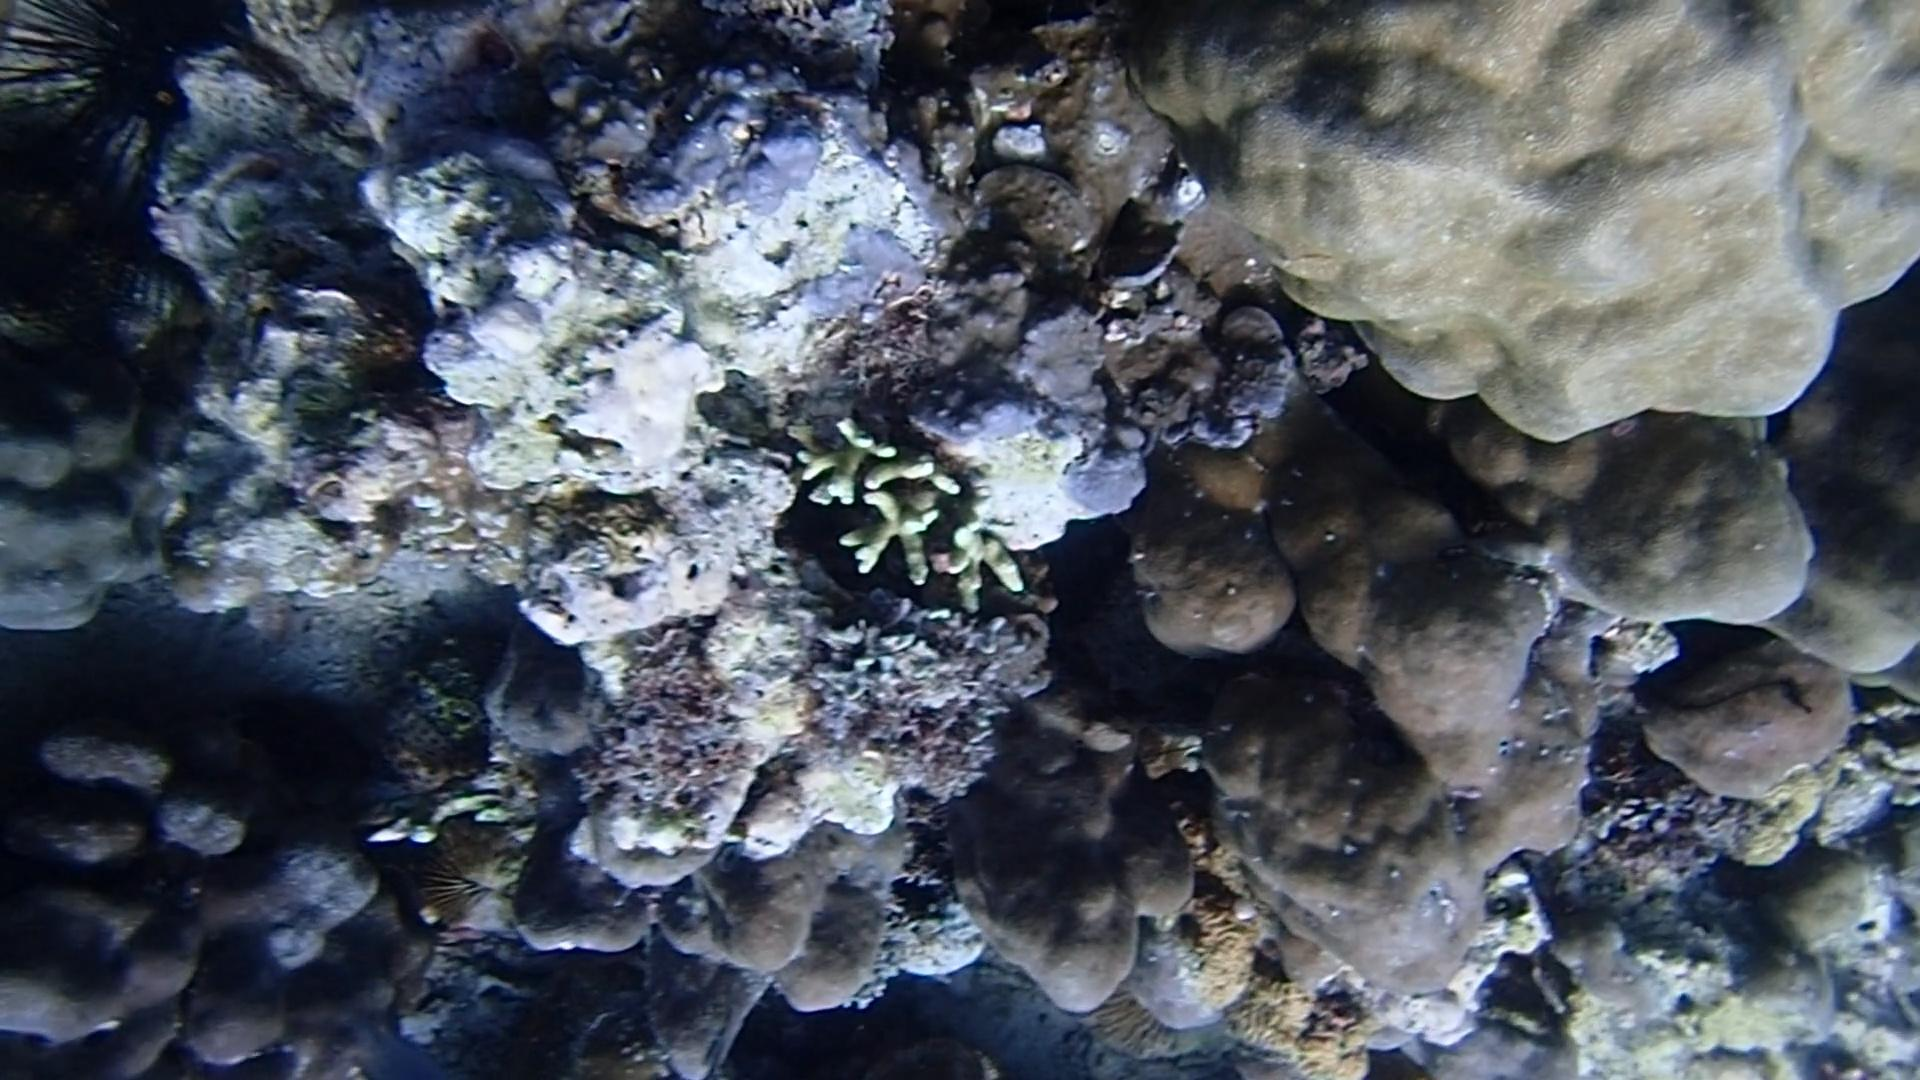Blue Fish Two: (328, 992, 452, 1080)
